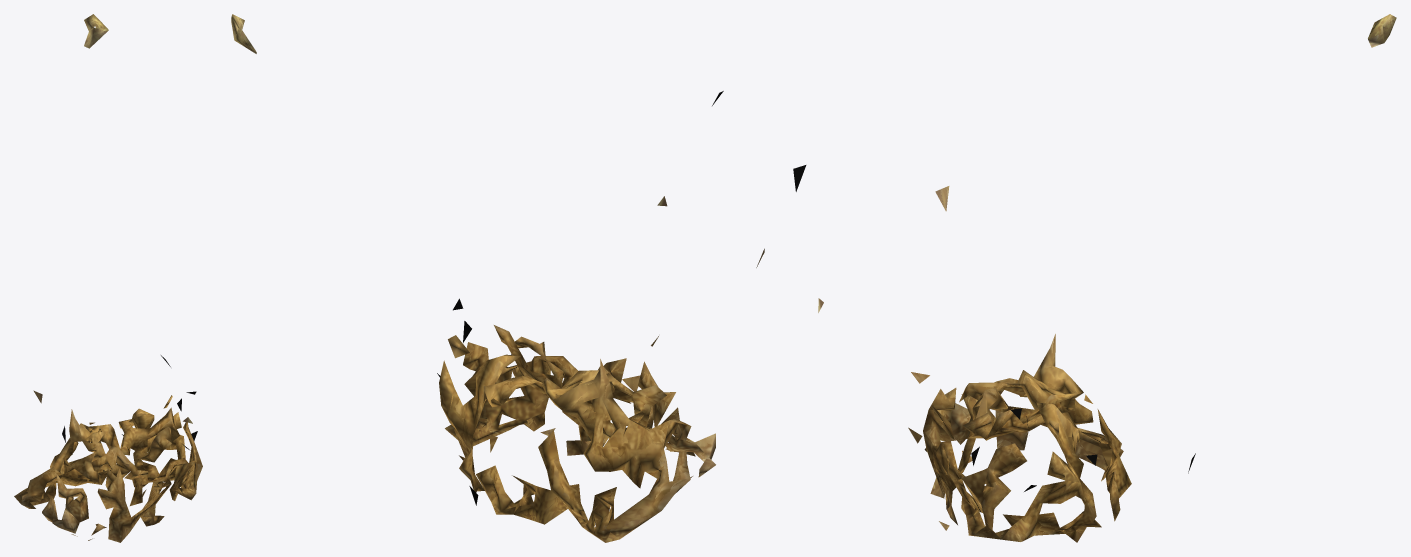
File: drybush.glb
3 views of the same model, side by side, from view 1: azimuth 30°, elevation 25°; view 2: azimuth 150°, elevation 25°; view 3: azimuth 270°, elevation 25° (orthographic). The views are drawn at different scales.
Visible parts, largest first — view 1: Model; view 2: Model; view 3: Model.
Boxes of the visible parts, box(x1,y1,x2,y2) form: Model: box(14, 14, 202, 542); Model: box(231, 14, 764, 542); Model: box(793, 14, 1396, 542).
Bounding box in the file's own units: 0.5289 × 0.8989 × 0.8584.
1 material, 1 textured.
